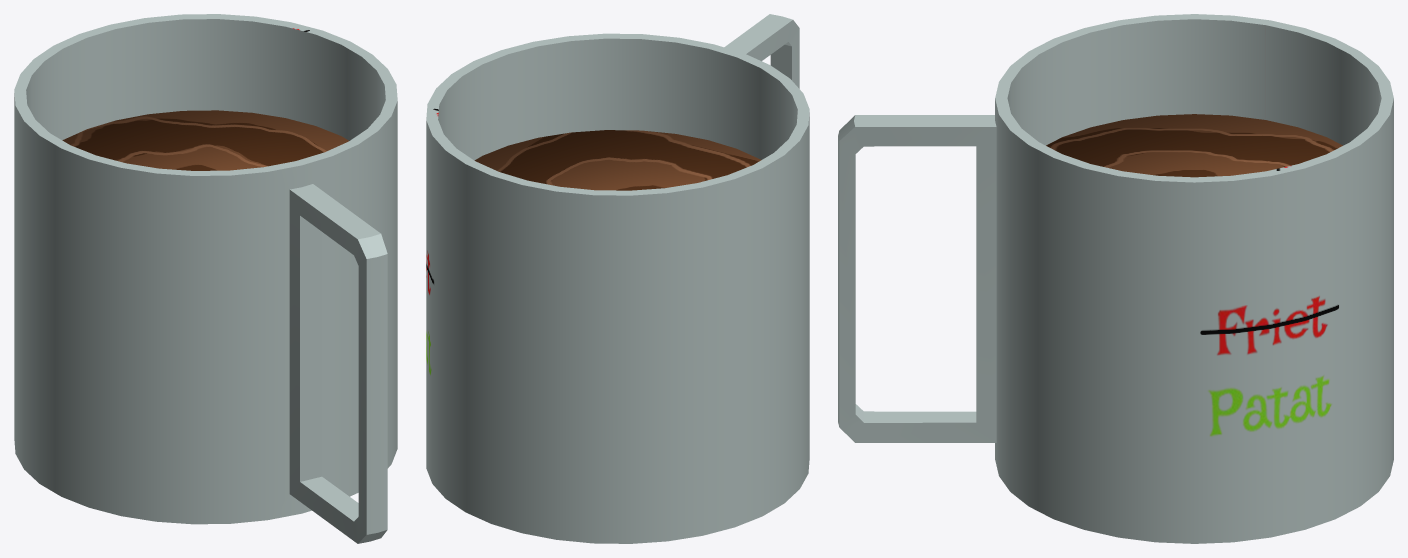
File: Coffee-Throw.fbx
The picture shows the model from 3 angles, left to right: view 1: azimuth 30°, elevation 25°; view 2: azimuth 150°, elevation 25°; view 3: azimuth 270°, elevation 25°; orthographic projection. The views are drawn at different scales.
Parts seen in each view (by area): view 1: Cylinder.003; view 2: Cylinder.003; view 3: Cylinder.003.
Part boxes in pixels (box(x1,y1,x2,y2)): Cylinder.003: box(14, 14, 397, 543); Cylinder.003: box(426, 14, 809, 543); Cylinder.003: box(838, 14, 1393, 543).
Size of the model in its own units: 312 by 312 by 434.
2 materials, 2 textured.
